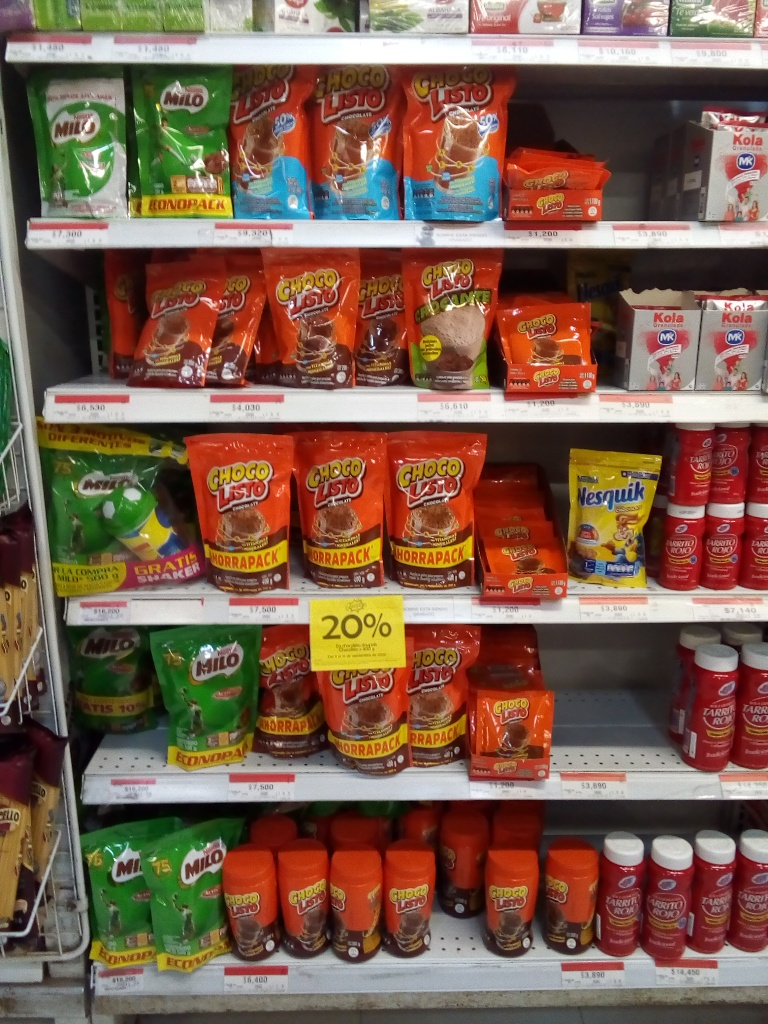COL0170103DYP44000: (186, 431, 301, 594)
COL0170103SOB02000: (506, 149, 601, 186)
